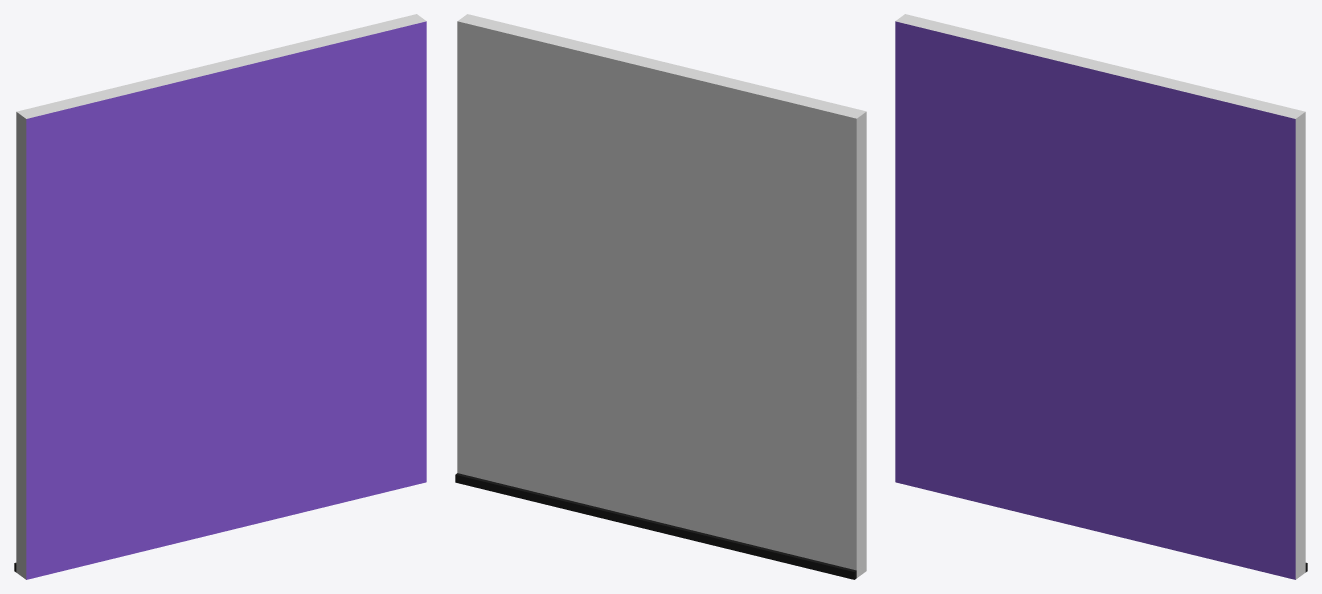
The model's file is wall.fbx.
3 views of the same model, side by side, from view 1: azimuth 30°, elevation 25°; view 2: azimuth 150°, elevation 25°; view 3: azimuth 330°, elevation 25° (orthographic).
Parts seen in each view (by area): view 1: wall; view 2: wall; view 3: wall.
Boxes of the visible parts, bbox=[...] form: wall: bbox=[14, 14, 426, 579]; wall: bbox=[455, 14, 866, 579]; wall: bbox=[895, 14, 1307, 579].
Bounding box in the file's own units: 2.5 × 2.75 × 0.1322.
